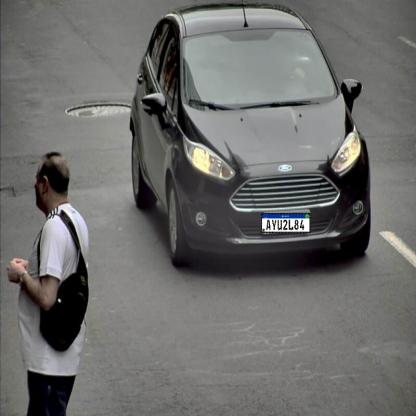PlacaM: (261, 213, 310, 233)
